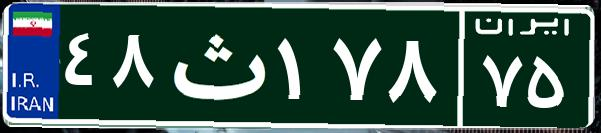1: (273, 28, 330, 110)
4: (57, 26, 110, 107)
5: (525, 38, 570, 115)
7: (330, 28, 385, 110), (475, 38, 525, 113)
8: (385, 28, 445, 110), (110, 28, 158, 105)
ث: (158, 15, 273, 115)
